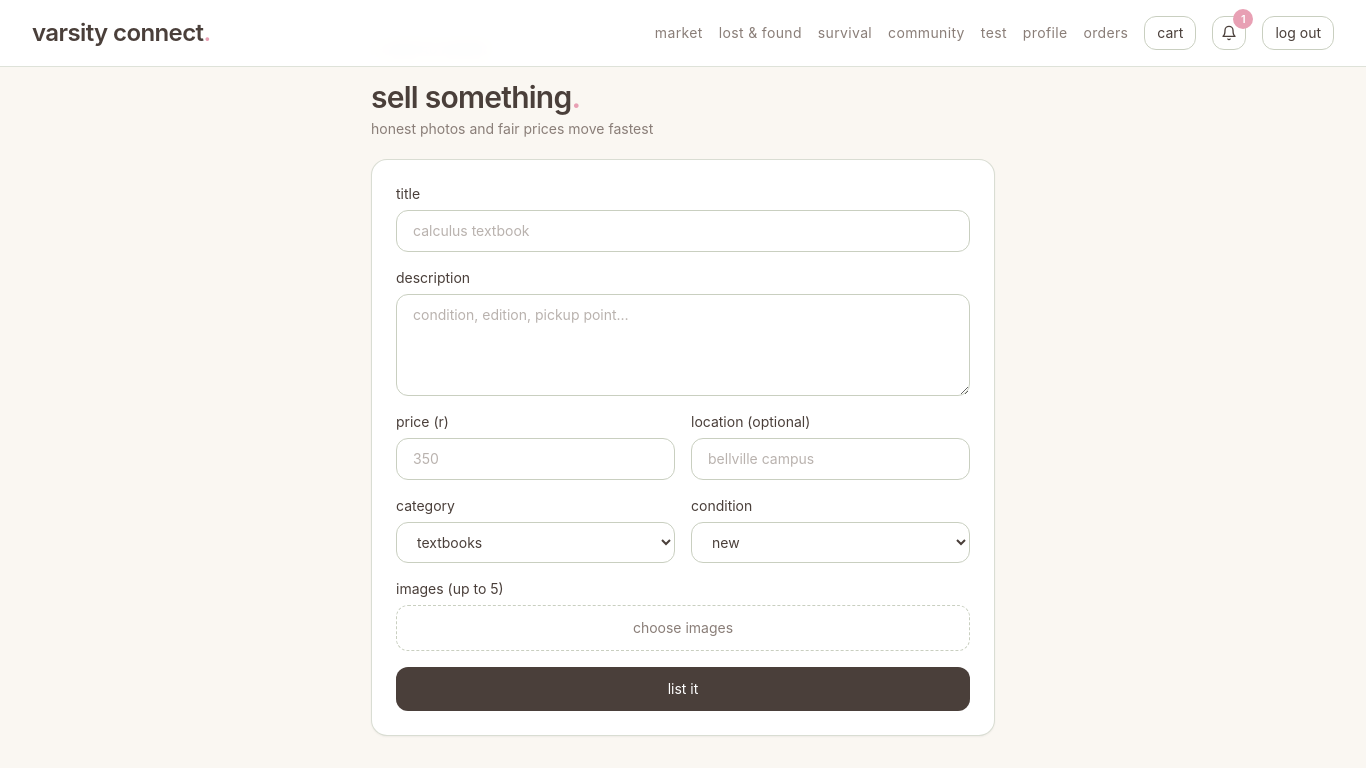
Test: create listing › validates the form
(page scrolled)
Expected: the field labelled "title" is shown, [396,210,970,252]
Click the button "list it". click: coordinates (683, 689)
box: [396,667,970,711]
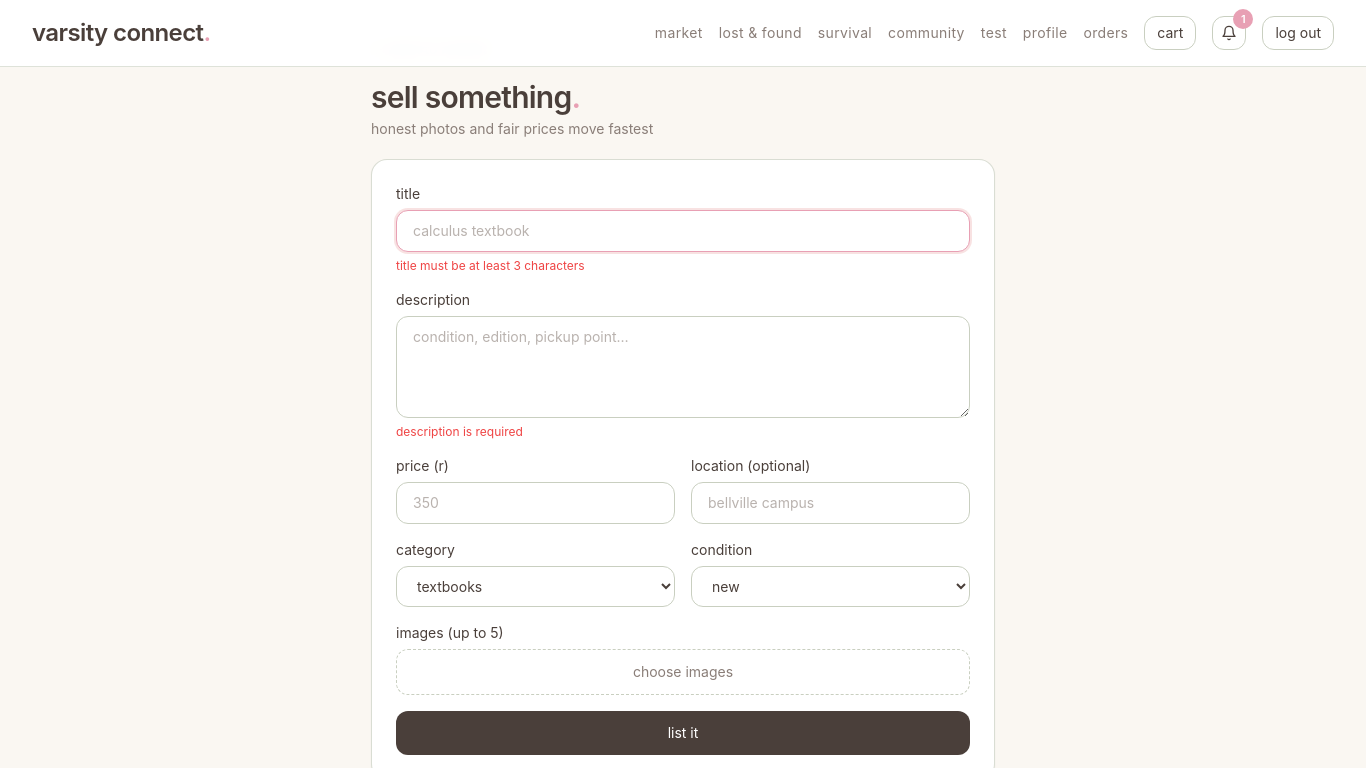
Expected: the text "title must be at least 3 characters" is shown, [396,258,585,273]
Expected: the text "description is required" is shown, [396,424,523,439]
